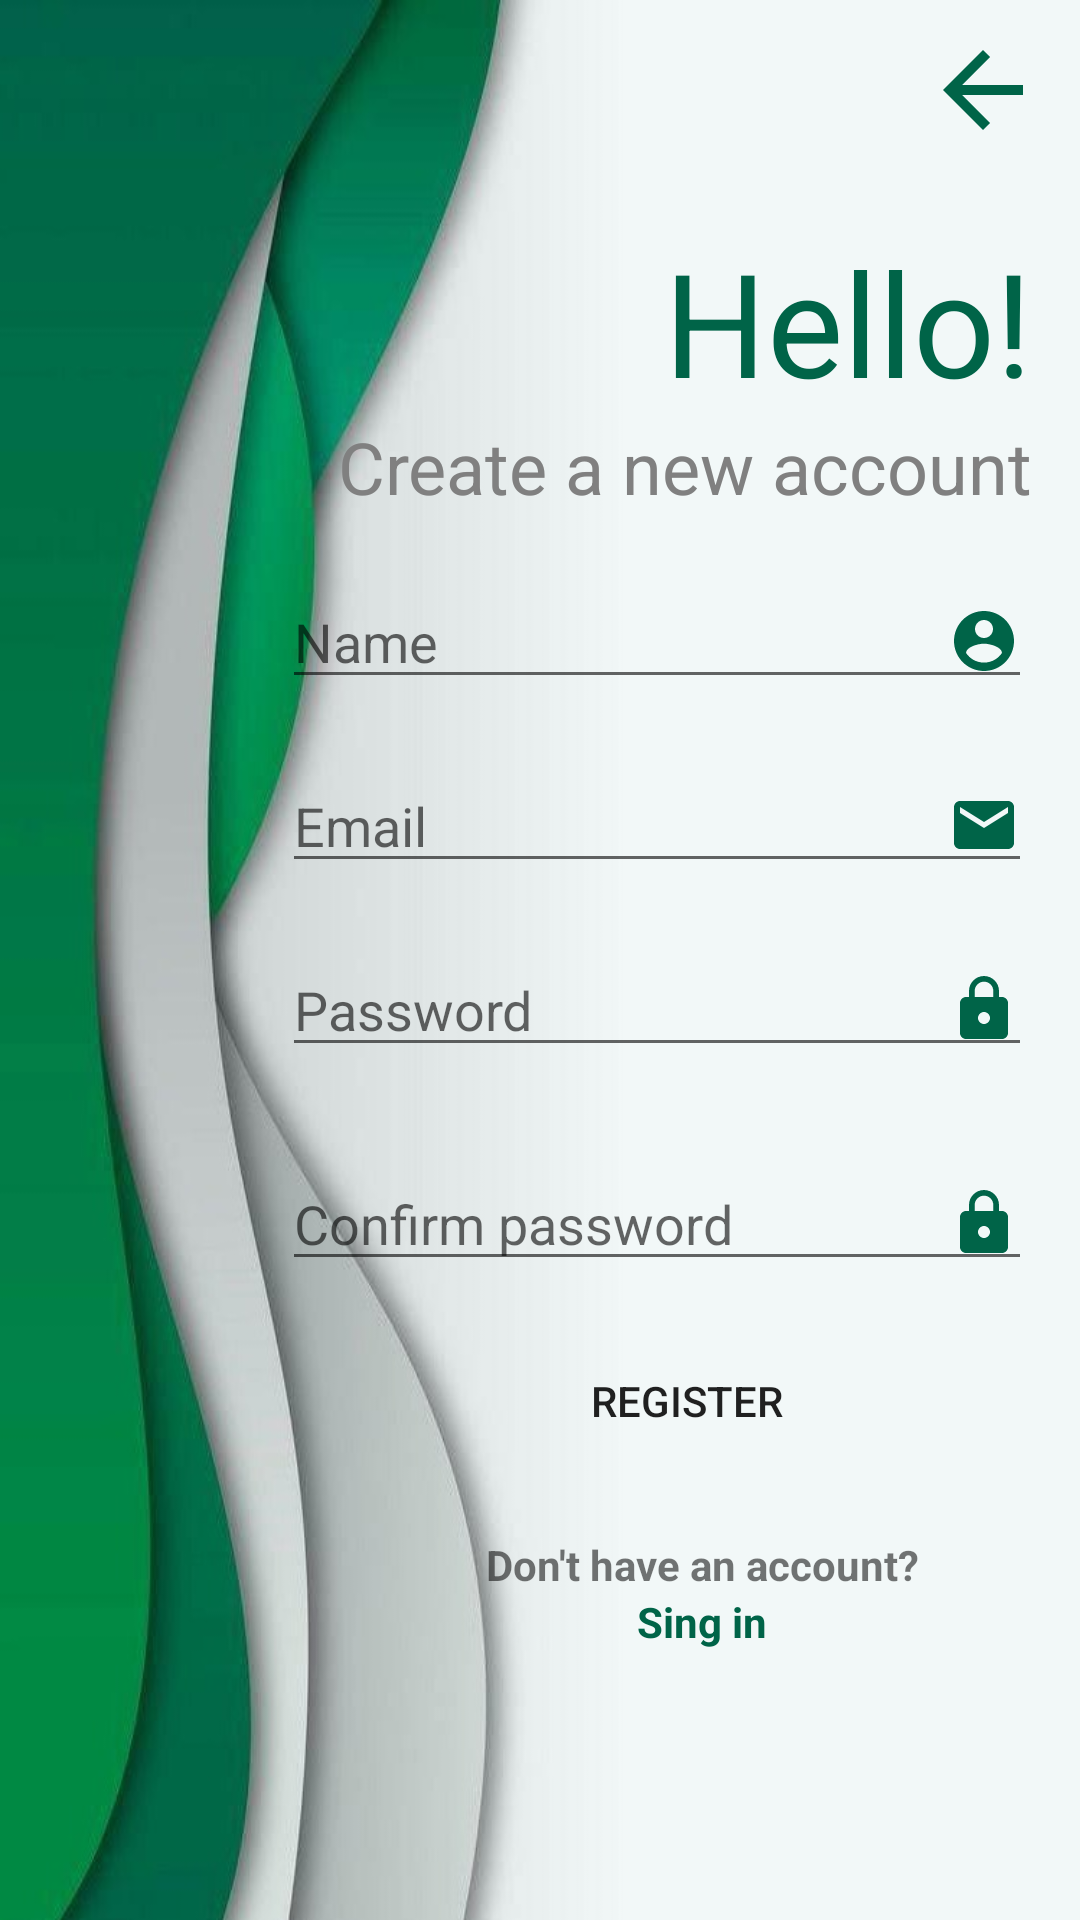

Where icons sit on this 1080 × 1920 app screen, as (x1, y1, x2, y2):
arrow back: (943, 50, 1023, 130)
